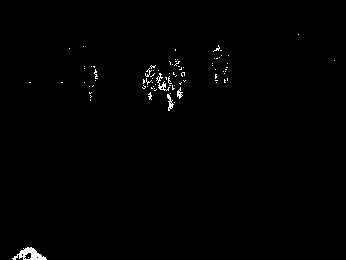person: (163, 54, 188, 113), (142, 62, 164, 102)
